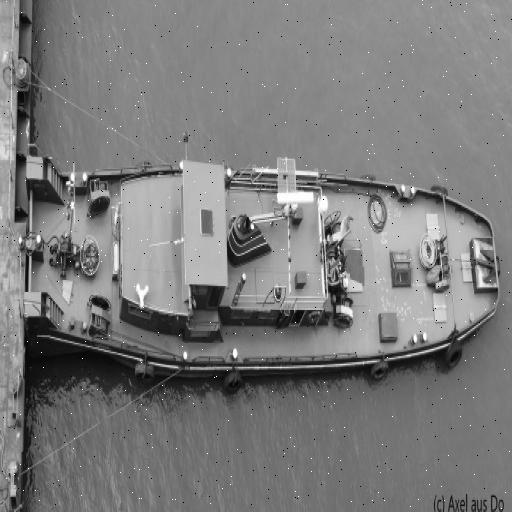tugboat: (13, 145, 505, 386)
